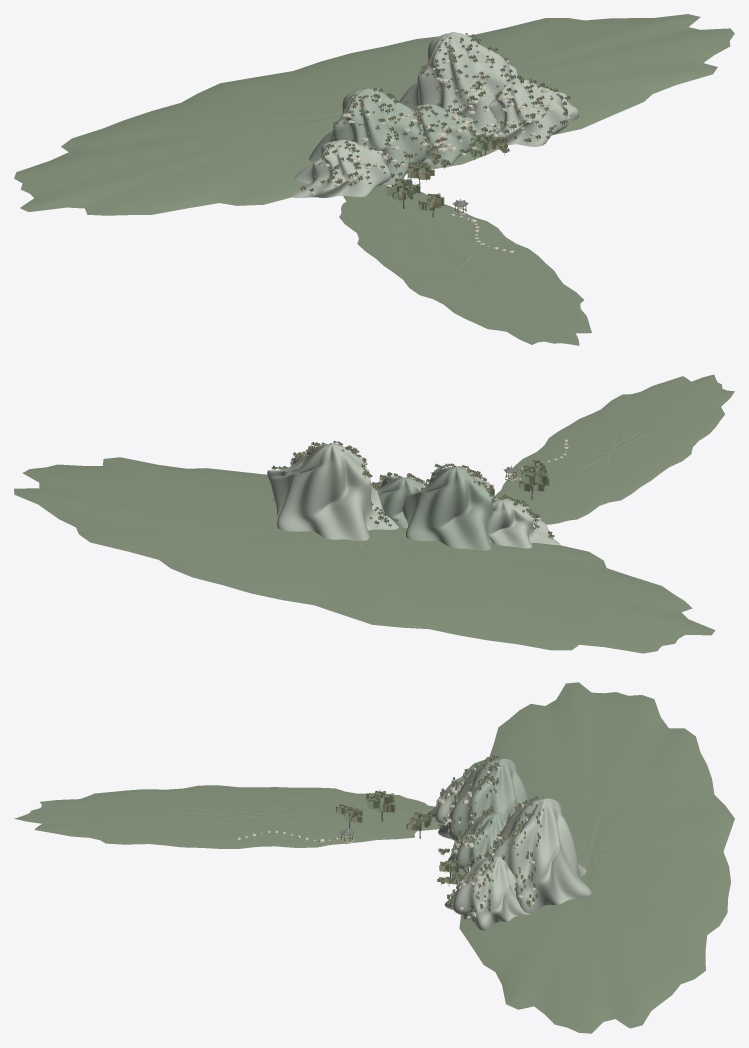
The model's file is twin-peaks.glb.
The picture shows the model from 3 angles, top to bottom: view 1: azimuth 30°, elevation 25°; view 2: azimuth 150°, elevation 25°; view 3: azimuth 270°, elevation 25°; orthographic projection. The views are drawn at different scales.
Parts seen in each view (by area): view 1: earth, mountainfar, mountain, crown0, crown2, crown1, stone, stone2, bark; view 2: earth, mountainfar, mountain, crown0, crown1, crown2; view 3: earth, mountainfar, mountain, crown1, crown2, crown0, stone.
Part boxes in pixels (<box>): earth: <box>14,14,734,345</box>; mountainfar: <box>293,32,578,198</box>; mountain: <box>309,88,484,185</box>; crown0: <box>309,37,570,211</box>; crown2: <box>299,34,567,209</box>; crown1: <box>305,33,567,209</box>; stone: <box>322,41,555,253</box>; stone2: <box>310,46,571,251</box>; bark: <box>301,34,568,217</box>; earth: <box>14,374,734,653</box>; mountainfar: <box>267,443,560,548</box>; mountain: <box>376,466,492,550</box>; crown0: <box>271,441,552,533</box>; crown1: <box>288,441,551,537</box>; crown2: <box>272,442,554,537</box>; earth: <box>14,682,734,1033</box>; mountainfar: <box>428,773,591,930</box>; mountain: <box>438,757,528,872</box>; crown1: <box>337,755,543,915</box>; crown2: <box>338,756,540,908</box>; crown0: <box>336,757,543,915</box>; stone: <box>236,762,535,918</box>.
Size of the model in its own units: 330 by 38.01 by 286.
